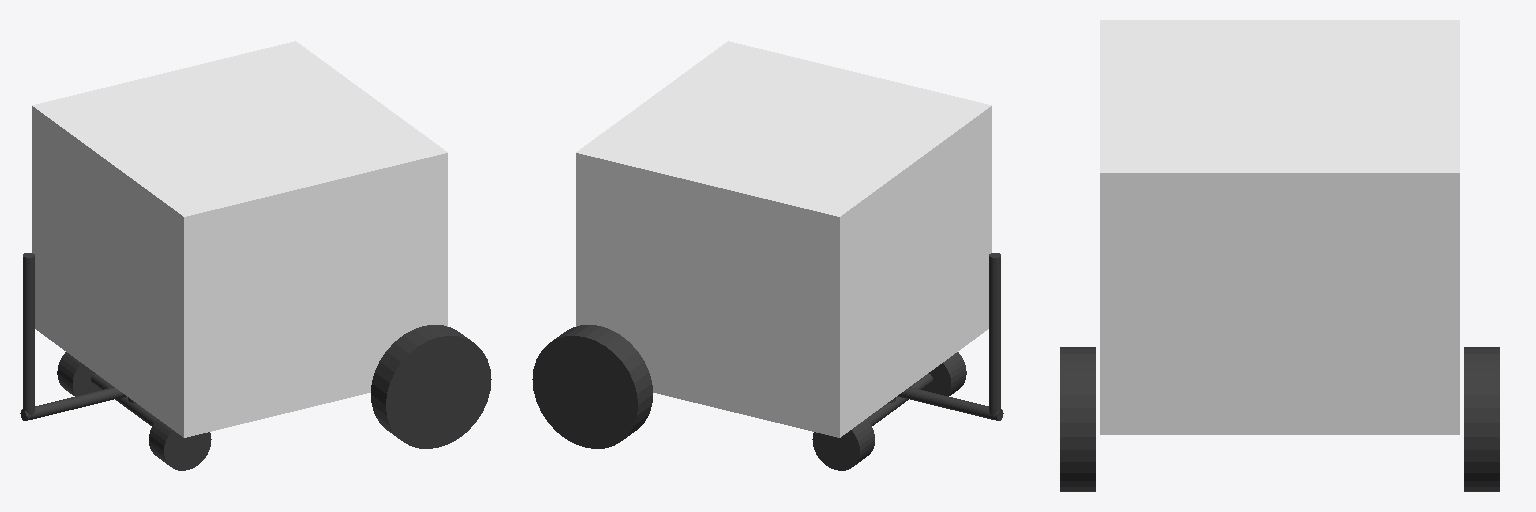
robot.urdf — pole_box:
<?xml version="1.0"?>
<robot name="pole_box">

  <link name="box">
    <contact>
        <lateral_friction value="0.5"/>
        <rolling_friction value="0.0"/>
        <contact_cfm value="0.0"/>
        <contact_erp value="1.0"/>
    </contact>
    <inertial>
        <origin rpy="0 0 0" xyz="0 0 0"/>
        <mass value="30"/>
    </inertial>
    <visual>
        <origin rpy="0 0 0" xyz="0 0 0"/>
        <geometry>
        <box size="1.0 1.0 0.8"/>
        </geometry>
        <material name="slider_mat">
        <color rgba="1.0 1.0 1.0 1"/>
        </material>
    </visual>
    <collision>
        <origin rpy="0 0 0" xyz="0 0 0"/>
        <geometry>
        <box size="1.0 1.0 0.8"/>
        </geometry>
    </collision>
  </link>

  <link name="axis_pole">
    <contact>
      <lateral_friction value="0.5"/>
      <rolling_friction value="0.0"/>
      <contact_cfm value="0.0"/>
      <contact_erp value="1.0"/>
    </contact>
    <inertial>
      <origin rpy="0 0 0" xyz="0 0 0"/>
        <mass value="1"/>
    </inertial>
    <visual>
        <origin rpy="0 0 0" xyz="0 0 0"/>
      <geometry>
        <!-- <box size="0.03 8 0.03"/> -->
        <cylinder length="0.088" radius="0.02"/>
      </geometry>
      <material name="slider_mat">
        <color rgba="0.3 0.3 0.3 1"/>
      </material>
    </visual>
    <collision>
      <origin rpy="0 0 0" xyz="0 0 0"/>
      <geometry>
        <!-- <box size="0.03 8 0.03"/>-->
        <cylinder length="0.088" radius="0.02"/>
      </geometry>
    </collision>
  </link>
  <joint name="box_to_axis_pole" type="continuous">
    <parent link="box"/>
    <child link="axis_pole"/>
    <origin rpy="0 0 0" xyz="-0.4 0 -0.445"/>
    <axis xyz="0 0 1"/>
  </joint>

  <link name="axis_link_pole">
    <contact>
      <lateral_friction value="0.5"/>
      <rolling_friction value="0.0"/>
      <contact_cfm value="0.0"/>
      <contact_erp value="1.0"/>
    </contact>
    <inertial>
      <origin rpy="0 0 0" xyz="0 0 0"/>
        <mass value="1"/>
    </inertial>
    <visual>
        <origin rpy="0 0 0" xyz="0 0 0"/>
      <geometry>
        <cylinder length="0.44" radius="0.02"/>
      </geometry>
      <material name="slider_mat">
        <color rgba="0.3 0.3 0.3 1"/>
      </material>
    </visual>
    <collision>
      <origin rpy="0 0 0" xyz="0 0 0"/>
      <geometry>
        <cylinder length="0.44" radius="0.02"/>
      </geometry>
    </collision>
  </link>
  <joint name="axis_pole_to_axis_link_pole" type="fixed">
    <parent link="axis_pole"/>
    <child link="axis_link_pole"/>
    <origin rpy="0 1.5708 0" xyz="-0.2 0 0"/>
  </joint>

  <link name="axis_link_pole2">
    <contact>
      <lateral_friction value="0.5"/>
      <rolling_friction value="0.0"/>
      <contact_cfm value="0.0"/>
      <contact_erp value="1.0"/>
    </contact>
    <inertial>
      <origin rpy="0 0 0" xyz="0 0 0"/>
        <mass value="1"/>
    </inertial>
    <visual>
        <origin rpy="0 0 0" xyz="0 0 0"/>
      <geometry>
        <cylinder length="0.575" radius="0.02"/>
      </geometry>
      <material name="slider_mat">
        <color rgba="0.3 0.3 0.3 1"/>
      </material>
    </visual>
    <collision>
      <origin rpy="0 0 0" xyz="0 0 0"/>
      <geometry>
        <cylinder length="0.575" radius="0.02"/>
      </geometry>
    </collision>
  </link>
  <!-- <joint name="axis_linke_pole_to_axis_link_pole2" type="fixed">
    <parent link="axis_link_pole"/>
    <child link="axis_link_pole2"/>
    <origin rpy="0 1.5708 0" xyz="-0.3875 0 -0.2"/>
  </joint> -->
  <joint name="axis_linke_pole_to_axis_link_pole2" type="continuous">
    <parent link="axis_link_pole"/>
    <child link="axis_link_pole2"/>
    <origin rpy="0 1.5708 0" xyz="-0.2875 0 -0.2"/>
    <axis xyz="0 0 1"/>
  </joint>

  <link name="handle_pole">
    <contact>
      <lateral_friction value="0.5"/>
      <rolling_friction value="0.0"/>
      <contact_cfm value="0.0"/>
      <contact_erp value="1.0"/>
    </contact>
    <inertial>
      <origin rpy="0 0 0" xyz="0 0 0"/>
        <mass value="1"/>
    </inertial>
    <visual>
        <origin rpy="0 0 0" xyz="0 0 0"/>
        <geometry>
            <mesh filename="ShipWheel/ShipWheel.obj" scale="0.04 0.04 0.04"/>
          </geometry>
          <material name="couch_material">
            <color rgba="0.3 0.3 0.3 1"/>
          </material>
    </visual>
    <collision>
        <origin rpy="0 0 0" xyz="0 0 0"/>
        <geometry>
            <mesh filename="ShipWheel/ShipWheel.obj" scale="0.04 0.04 0.04"/>
        </geometry>
      </collision>
  </link>
  <!-- <joint name="axis_link_pole2_to_handle_pole" type="fixed">
    <parent link="axis_link_pole2"/>
    <child link="handle_pole"/>
    <origin rpy="1.5708 0 0" xyz="0 0 -0.3875"/>
  </joint> -->
  <joint name="axis_link_pole2_to_handle_pole" type="continuous">
    <parent link="axis_link_pole2"/>
    <child link="handle_pole"/>
    <origin rpy="-1.5708 0 -1.5708" xyz="0 0 -0.3875"/>
    <axis xyz="1 0 0"/>
  </joint>

  <link name="coupling_pole">
    <contact>
      <lateral_friction value="0.5"/>
      <rolling_friction value="0.0"/>
      <contact_cfm value="0.0"/>
      <contact_erp value="1.0"/>
    </contact>
    <inertial>
      <origin rpy="0 0 0" xyz="0 0 0"/>
        <mass value="1"/>
    </inertial>
    <visual>
        <origin rpy="0 0 0" xyz="0 0 0"/>
      <geometry>
        <!-- <box size="0.03 8 0.03"/> -->
        <cylinder length="0.6" radius="0.02"/>
      </geometry>
      <material name="slider_mat">
        <color rgba="0.3 0.3 0.3 1"/>
      </material>
    </visual>
    <collision>
      <origin rpy="0 0 0" xyz="0 0 0"/>
      <geometry>
        <!-- <box size="0.03 8 0.03"/>-->
        <cylinder length="0.6" radius="0.02"/>
      </geometry>
    </collision>
  </link>
  <joint name="axis_pole_to_coupling_pole" type="continuous">
    <parent link="axis_pole"/>
    <child link="coupling_pole"/>
    <origin rpy="1.5708 0 0" xyz="0 0 -0.065"/>
    <axis xyz="0 0 1"/>
  </joint>

  <link name="right_front_wheel">
    <inertial>
      <origin rpy="0 0 0" xyz="0 0 0"/>
        <mass value="5"/>
    </inertial>
    <visual>
        <origin rpy="0 0 0" xyz="0 0 0"/>
      <geometry>
        <!-- <box size="0.03 8 0.03"/> -->
        <cylinder length="0.1" radius="0.09"/>
      </geometry>
      <material name="slider_mat">
        <color rgba="0.3 0.3 0.3 1"/>
      </material>
    </visual>
    <collision>
      <origin rpy="0 0 0" xyz="0 0 0"/>
      <geometry>
        <!-- <box size="0.03 8 0.03"/>-->
        <cylinder length="0.1" radius="0.09"/>
      </geometry>
    </collision>
  </link>
  <joint name="coupling_pole_to_right_front_wheel" type="fixed">
    <parent link="coupling_pole"/>
    <child link="right_front_wheel"/>
    <origin rpy="0 0 0" xyz="0 0 -0.3"/>
  </joint>

  <link name="right_rear_wheel">
    <inertial>
      <origin rpy="0 0 0" xyz="0 0 0"/>
        <mass value="5"/>
    </inertial>
    <visual>
        <origin rpy="0 0 0" xyz="0 0 0"/>
      <geometry>
        <!-- <box size="0.03 8 0.03"/> -->
        <cylinder length="0.1" radius="0.2"/>
      </geometry>
      <material name="slider_mat">
        <color rgba="0.3 0.3 0.3 1"/>
      </material>
    </visual>
    <collision>
      <origin rpy="0 0 0" xyz="0 0 0"/>
      <geometry>
        <!-- <box size="0.03 8 0.03"/>-->
        <cylinder length="0.1" radius="0.2"/>
      </geometry>
    </collision>
  </link>
  <joint name="box_to_right_rear_wheel" type="continuous">
    <parent link="box"/>
    <child link="right_rear_wheel"/>
    <origin rpy="1.5708 0 0" xyz="0.4 0.56 -0.4"/>
    <axis xyz="0 0 1"/>
  </joint>

  <link name="left_front_wheel">
    <inertial>
      <origin rpy="0 0 0" xyz="0 0 0"/>
        <mass value="5"/>
    </inertial>
    <visual>
        <origin rpy="0 0 0" xyz="0 0 0"/>
      <geometry>
        <!-- <box size="0.03 8 0.03"/> -->
        <cylinder length="0.1" radius="0.09"/>
      </geometry>
      <material name="slider_mat">
        <color rgba="0.3 0.3 0.3 1"/>
      </material>
    </visual>
    <collision>
      <origin rpy="0 0 0" xyz="0 0 0"/>
      <geometry>
        <!-- <box size="0.03 8 0.03"/>-->
        <cylinder length="0.1" radius="0.09"/>
      </geometry>
    </collision>
  </link>
  <joint name="coupling_pole_to_left_front_wheel" type="fixed">
    <parent link="coupling_pole"/>
    <child link="left_front_wheel"/>
    <origin rpy="0 0 0" xyz="0 0 0.3"/>
  </joint>

  <link name="left_rear_wheel">
    <inertial>
      <origin rpy="0 0 0" xyz="0 0 0"/>
        <mass value="5"/>
    </inertial>
    <visual>
        <origin rpy="0 0 0" xyz="0 0 0"/>
      <geometry>
        <!-- <box size="0.03 8 0.03"/> -->
        <cylinder length="0.1" radius="0.2"/>
      </geometry>
      <material name="slider_mat">
        <color rgba="0.3 0.3 0.3 1"/>
      </material>
    </visual>
    <collision>
      <origin rpy="0 0 0" xyz="0 0 0"/>
      <geometry>
        <!-- <box size="0.03 8 0.03"/>-->
        <cylinder length="0.1" radius="0.2"/>
      </geometry>
    </collision>
  </link>
  <joint name="box_to_left_rear_wheel" type="continuous">
    <parent link="box"/>
    <child link="left_rear_wheel"/>
    <origin rpy="1.5708 0 0" xyz="0.4 -0.56 -0.4"/>
    <axis xyz="0 0 1"/>
  </joint>

  

</robot>

--- Render facts (derived) ---
3 views of the same robot in one strip: view 1: azimuth 30°, elevation 25°; view 2: azimuth 150°, elevation 25°; view 3: azimuth 270°, elevation 25° (orthographic).
Model pole_box with 10 links and 9 joints (6 continuous, 3 fixed), rooted at box, posed all joints at 0.
Visible links, largest first — view 1: box, left_rear_wheel, left_front_wheel, axis_link_pole2, axis_link_pole, right_front_wheel, coupling_pole; view 2: box, right_rear_wheel, right_front_wheel, axis_link_pole2, axis_link_pole, left_front_wheel, coupling_pole; view 3: box, right_rear_wheel, left_rear_wheel.
Link boxes in pixels (x1,y1,x2,y2): box: [32, 41, 447, 437]; left_rear_wheel: [371, 325, 491, 448]; left_front_wheel: [149, 419, 211, 470]; axis_link_pole2: [23, 253, 34, 415]; axis_link_pole: [20, 387, 126, 420]; right_front_wheel: [57, 352, 100, 396]; coupling_pole: [91, 373, 156, 425]; box: [576, 41, 991, 437]; right_rear_wheel: [532, 325, 652, 448]; right_front_wheel: [812, 419, 874, 470]; axis_link_pole2: [989, 253, 1000, 415]; axis_link_pole: [897, 387, 1003, 420]; left_front_wheel: [923, 352, 966, 396]; coupling_pole: [867, 373, 932, 425]; box: [1100, 20, 1459, 434]; right_rear_wheel: [1464, 347, 1499, 491]; left_rear_wheel: [1060, 347, 1095, 491].
Size in the robot's own frame: 1.42 by 1.22 by 1 metres.
Meshes: 1 distinct files referenced, 0 mesh visuals loaded (none loaded); not drawn: 1 (reference not matched to a file when rendering).